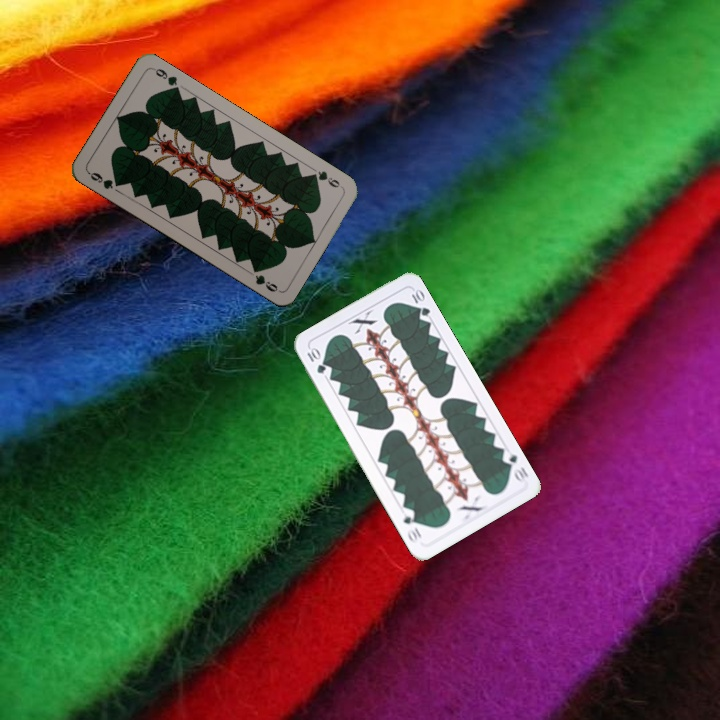G10: (498, 446, 531, 484), (303, 343, 329, 376)
G9: (84, 168, 124, 192), (306, 167, 345, 191)
